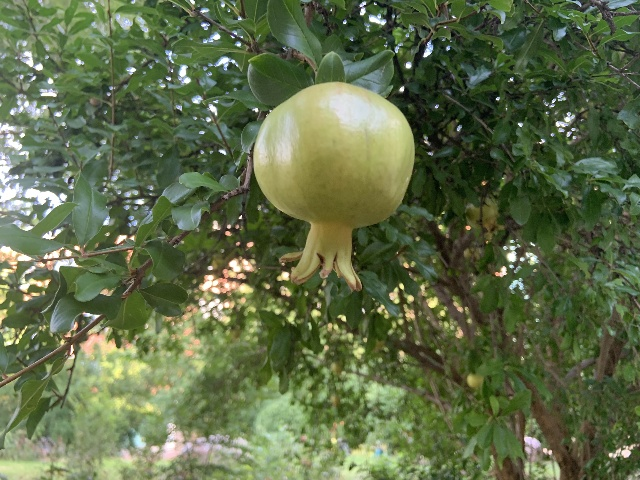mid-growth: (252, 82, 416, 292), (464, 196, 504, 240)
